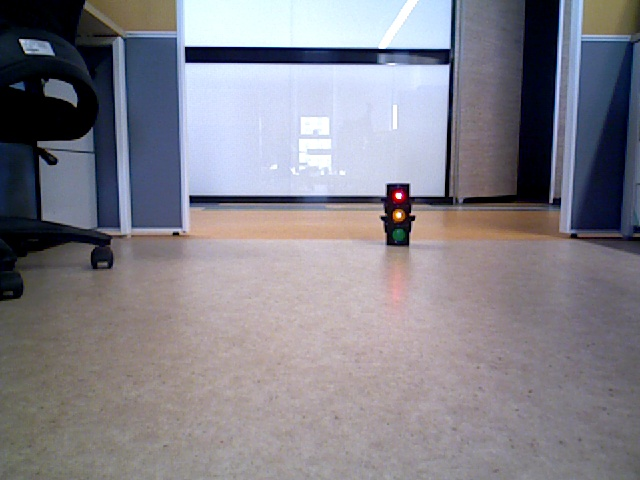red: (385, 187, 409, 242)
